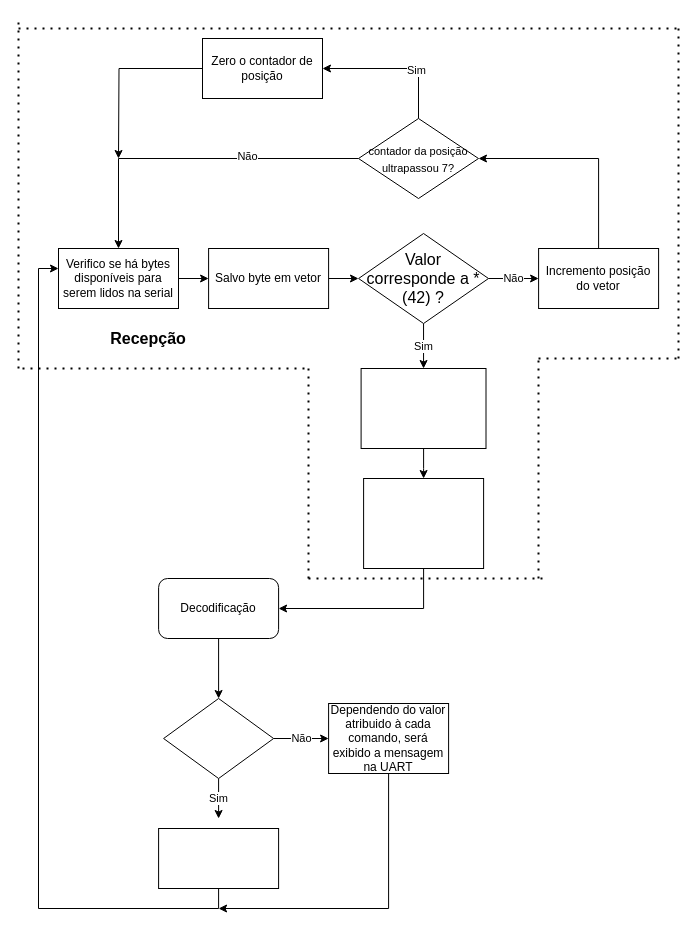
The diagram is 697 pixels wide and 934 high, and some of its shapes have lost their labels. The centre of each missing label's shape, as x and y in pixels:
Retorna a mensagem do respectivo erro: the point at 218,858
Retorno Verdade para indicar que uma mensagem foi recebida: the point at 423,523
Salvo em um novo vetor a mensagem completa e salvo o tamanho da mensagem: the point at 423,408
É uma mensagem de erro?: the point at 218,738
